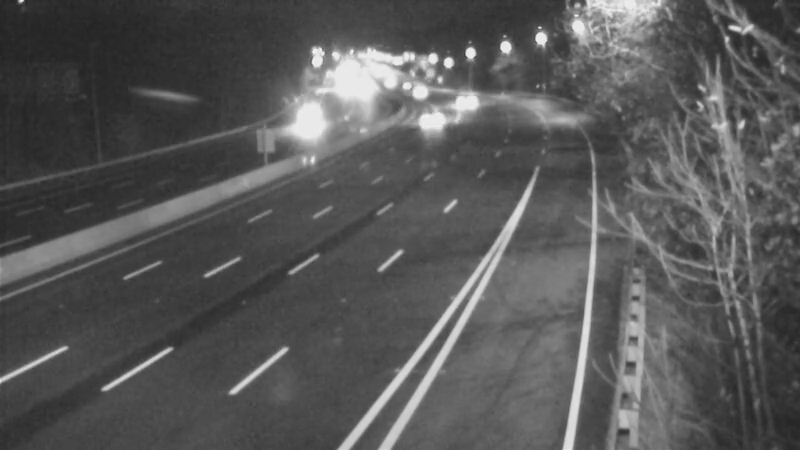vehicle: (394, 66, 444, 116), (441, 75, 491, 125), (403, 96, 453, 146), (276, 97, 326, 147)
